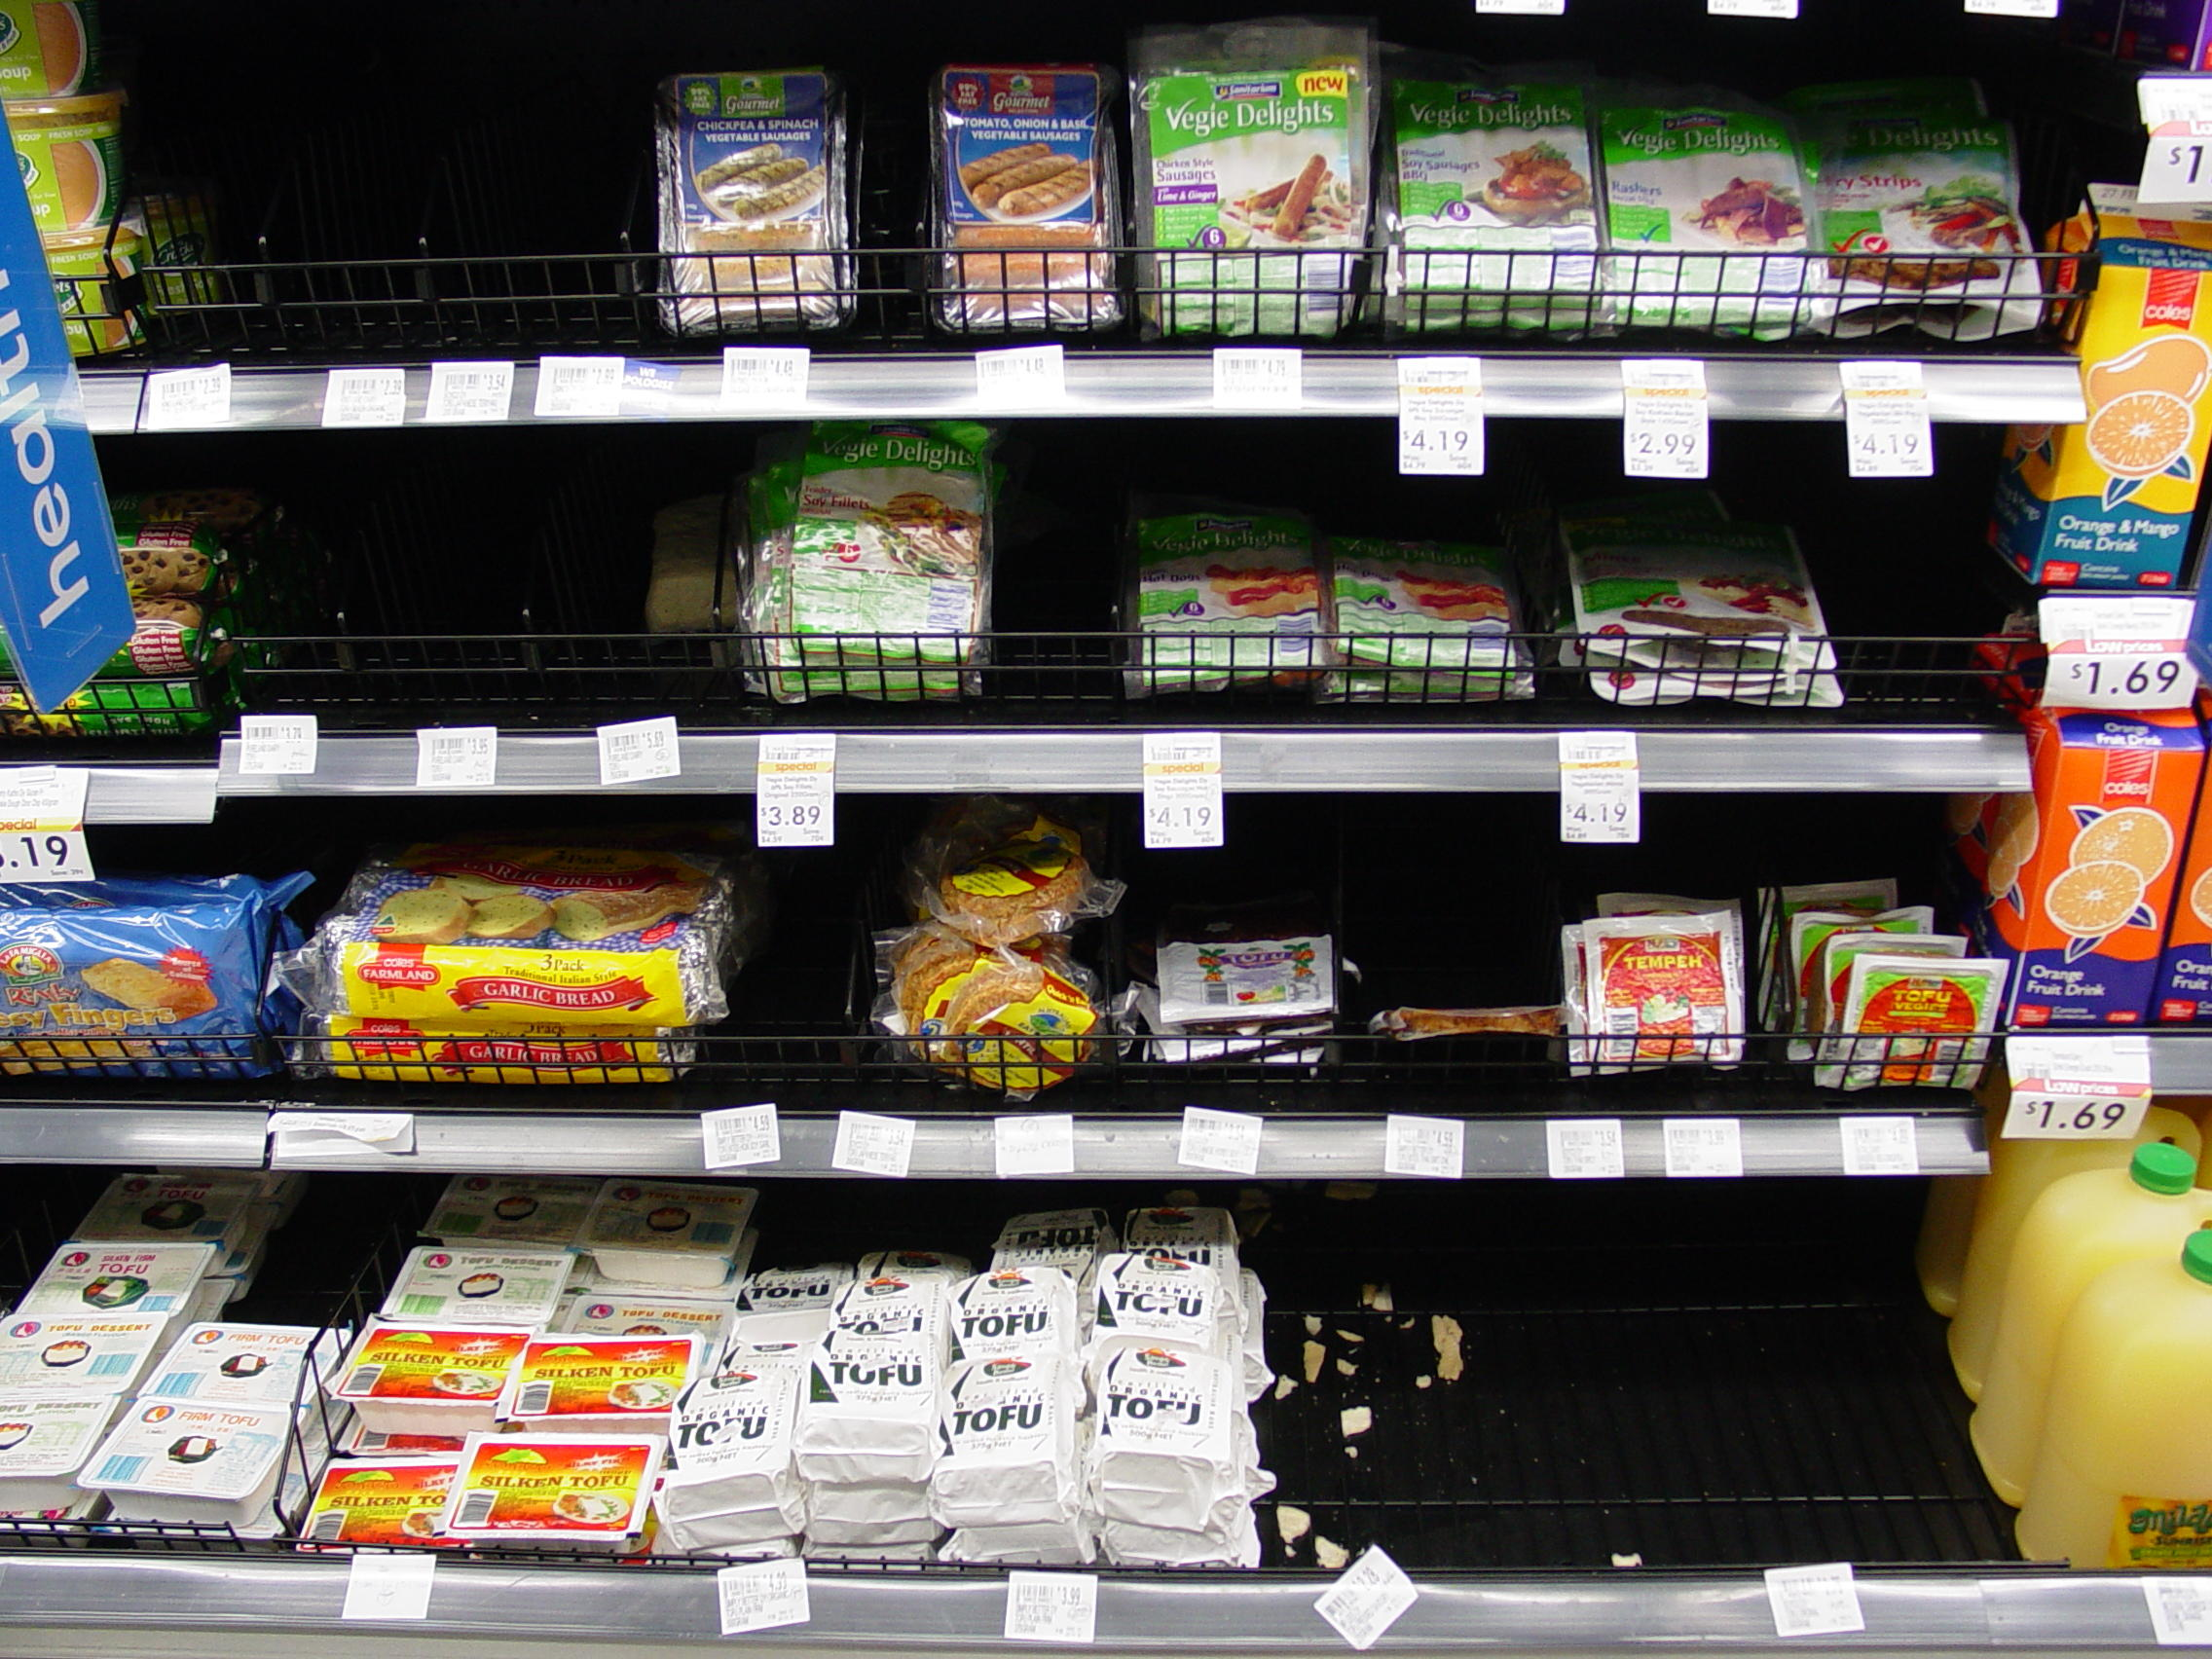Out-of-stock: (1270, 1192, 1986, 1579), (160, 7, 636, 355), (226, 455, 718, 732), (1831, 462, 1996, 730)
